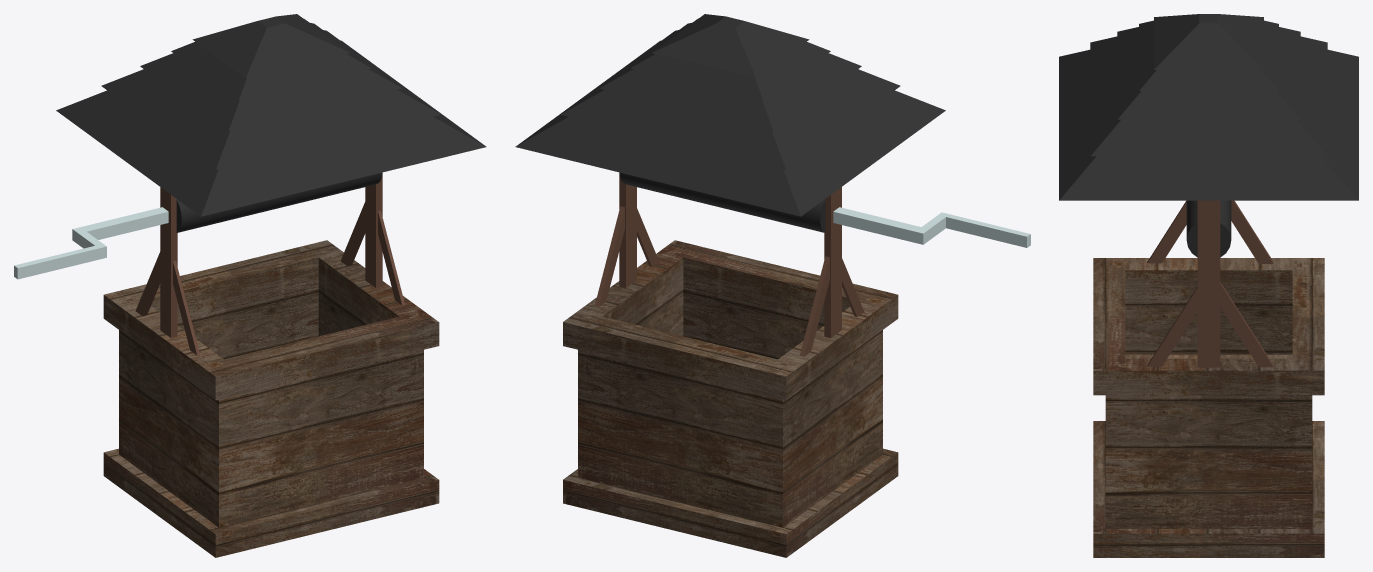
File: pozo.fbx
The picture shows the model from 3 angles, left to right: view 1: azimuth 30°, elevation 25°; view 2: azimuth 150°, elevation 25°; view 3: azimuth 270°, elevation 25°; orthographic projection. The views are drawn at different scales.
Parts seen in each view (by area): view 1: Pozo; view 2: Pozo; view 3: Pozo.
Boxes of the visible parts, <box> form: Pozo: <box>14,14,486,557</box>; Pozo: <box>515,14,1030,557</box>; Pozo: <box>1059,14,1358,557</box>.
Bounding box in the file's own units: 485 × 516 × 290.
Materials: 4 (1 with a texture image).
